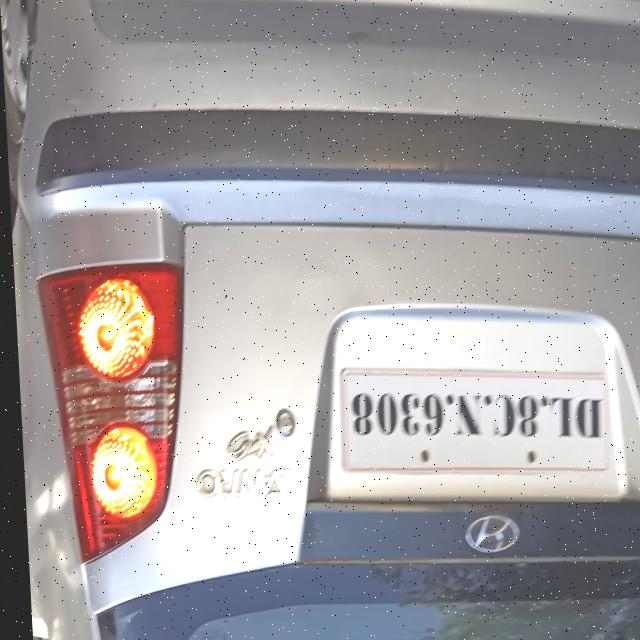plate: (335, 367, 605, 474)
